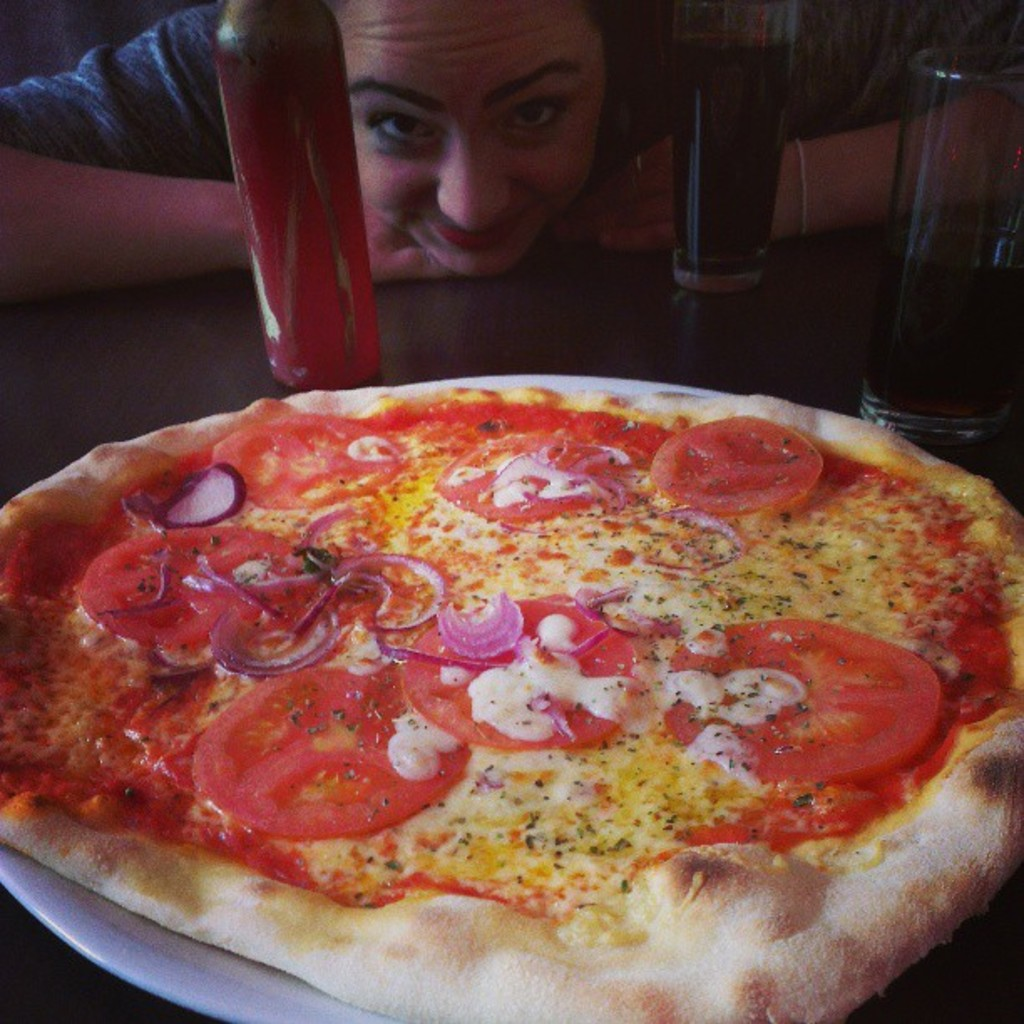Pizza: (0, 379, 1024, 1008)
